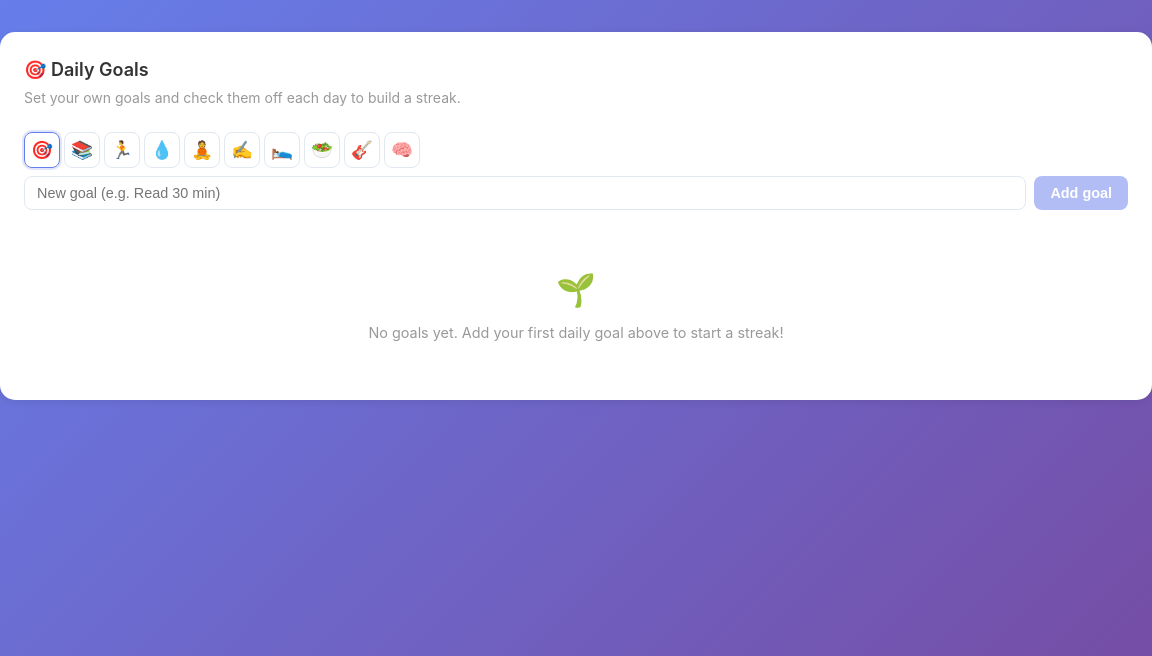
Test case: StreakTracker › creates a custom goal and checks it off today
Type "Read 30 min" into the field named "New goal name" at (525, 193), box x1=24 y1=176 x2=1026 y2=210
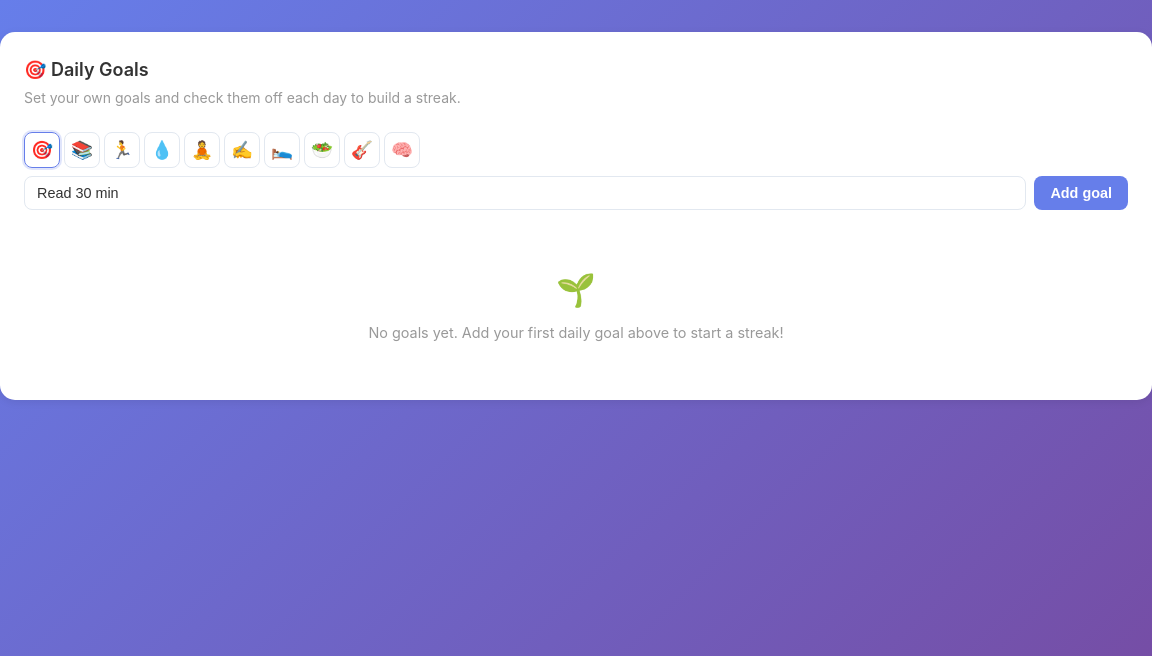
Click the button "Add goal" at (1081, 193), box x1=1034 y1=176 x2=1128 y2=210
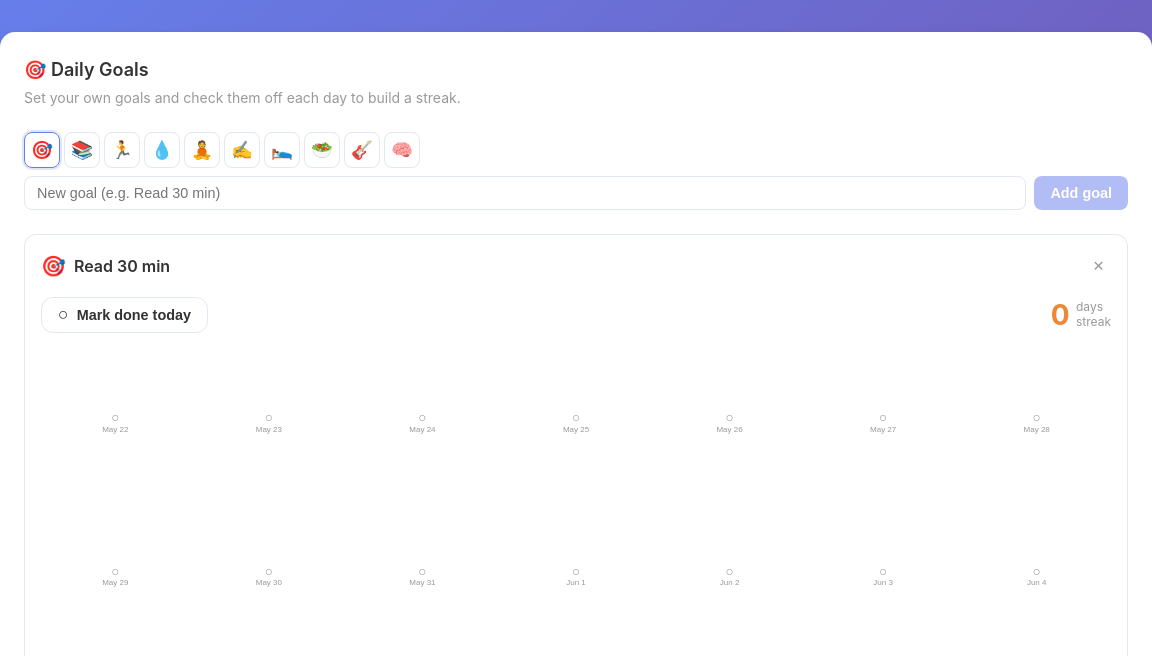
Click the button "○ Mark done today" at (124, 315), box x1=41 y1=297 x2=208 y2=333
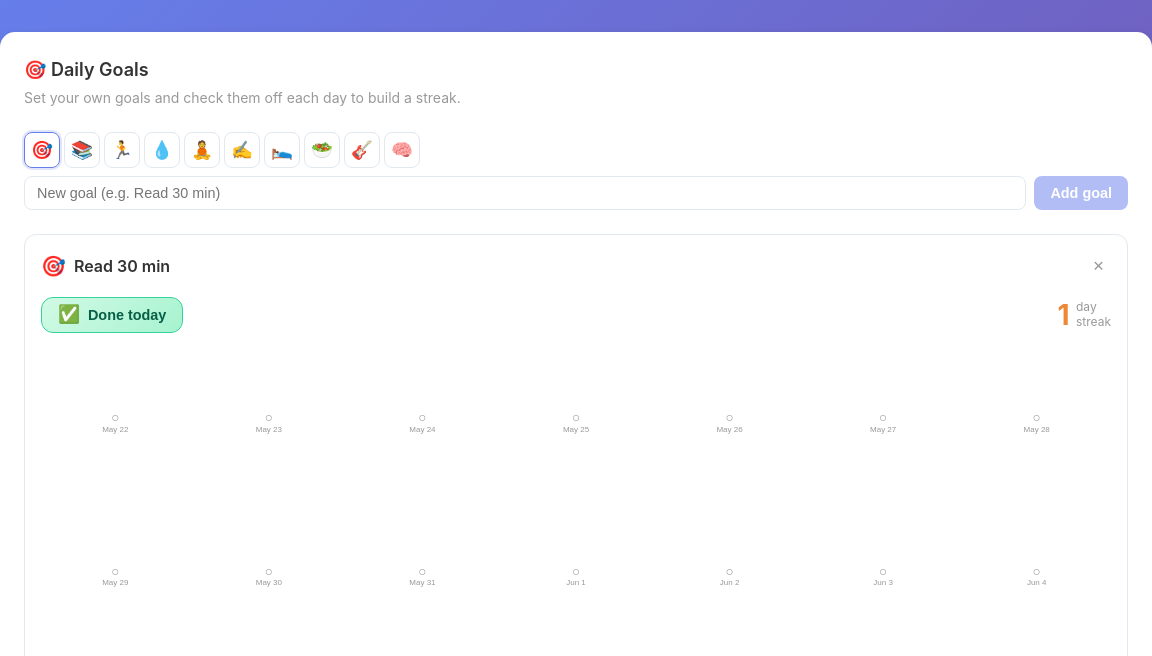
Expected: the button "✅ Done today" is shown, x1=41 y1=297 x2=183 y2=333
Expected: the text "1" is shown, x1=1058 y1=301 x2=1070 y2=329
